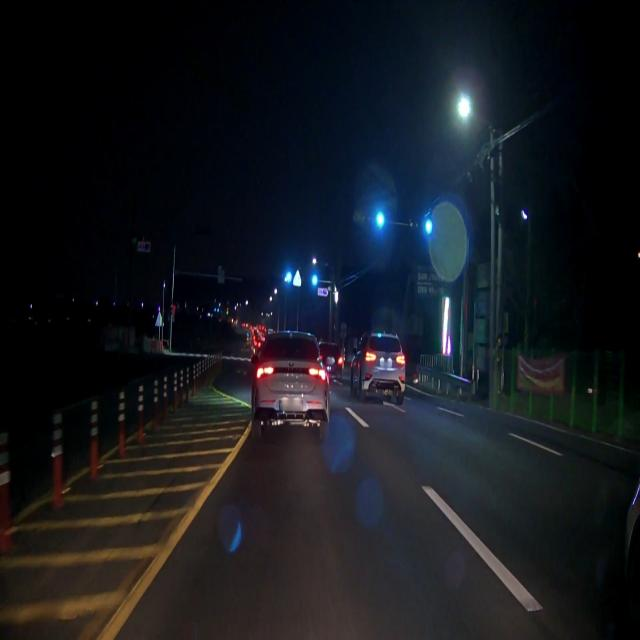Green Light: (376, 211, 385, 228), (423, 217, 432, 234), (312, 274, 318, 286), (286, 272, 292, 283)
